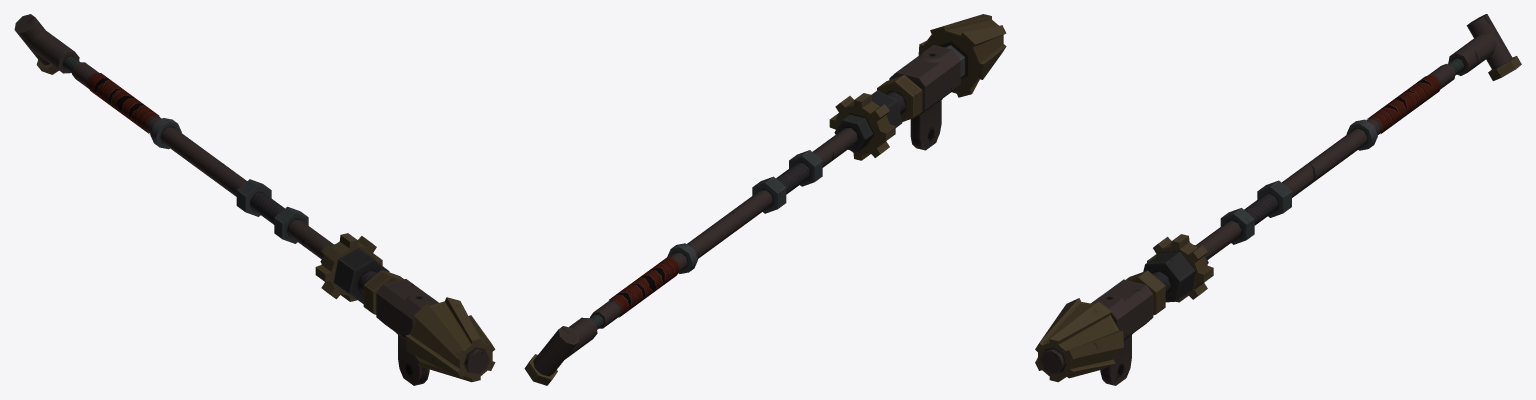
Rendered from Weapon_Spear_031.glb.
3 views of the same model, side by side, from view 1: azimuth 30°, elevation 25°; view 2: azimuth 150°, elevation 25°; view 3: azimuth 330°, elevation 25° (orthographic).
Parts seen in each view (by area): view 1: Weapon_Spear_031; view 2: Weapon_Spear_031; view 3: Weapon_Spear_031.
Part boxes in pixels (x1=…): Weapon_Spear_031: x1=14, y1=14, x2=495, y2=385; Weapon_Spear_031: x1=524, y1=14, x2=1006, y2=385; Weapon_Spear_031: x1=1035, y1=14, x2=1521, y2=385.
Bounding box in the file's own units: 0.2357 × 0.3403 × 2.76.
Materials: 1 (1 with a texture image).
